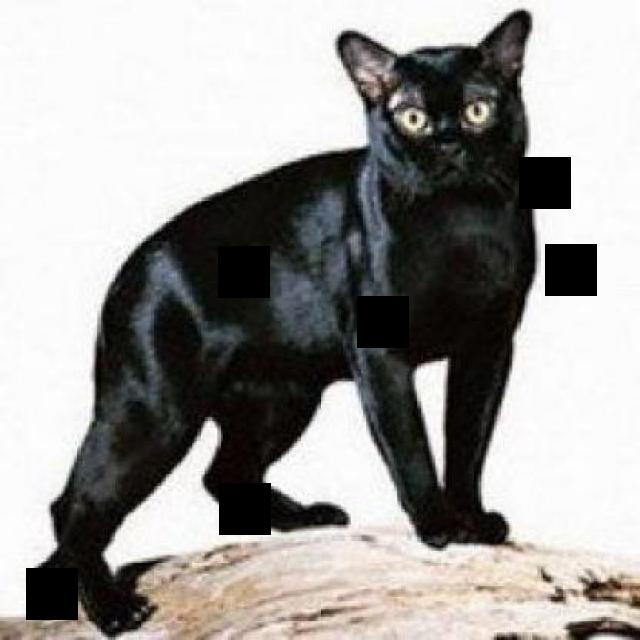unauthorized: (29, 8, 537, 637)
